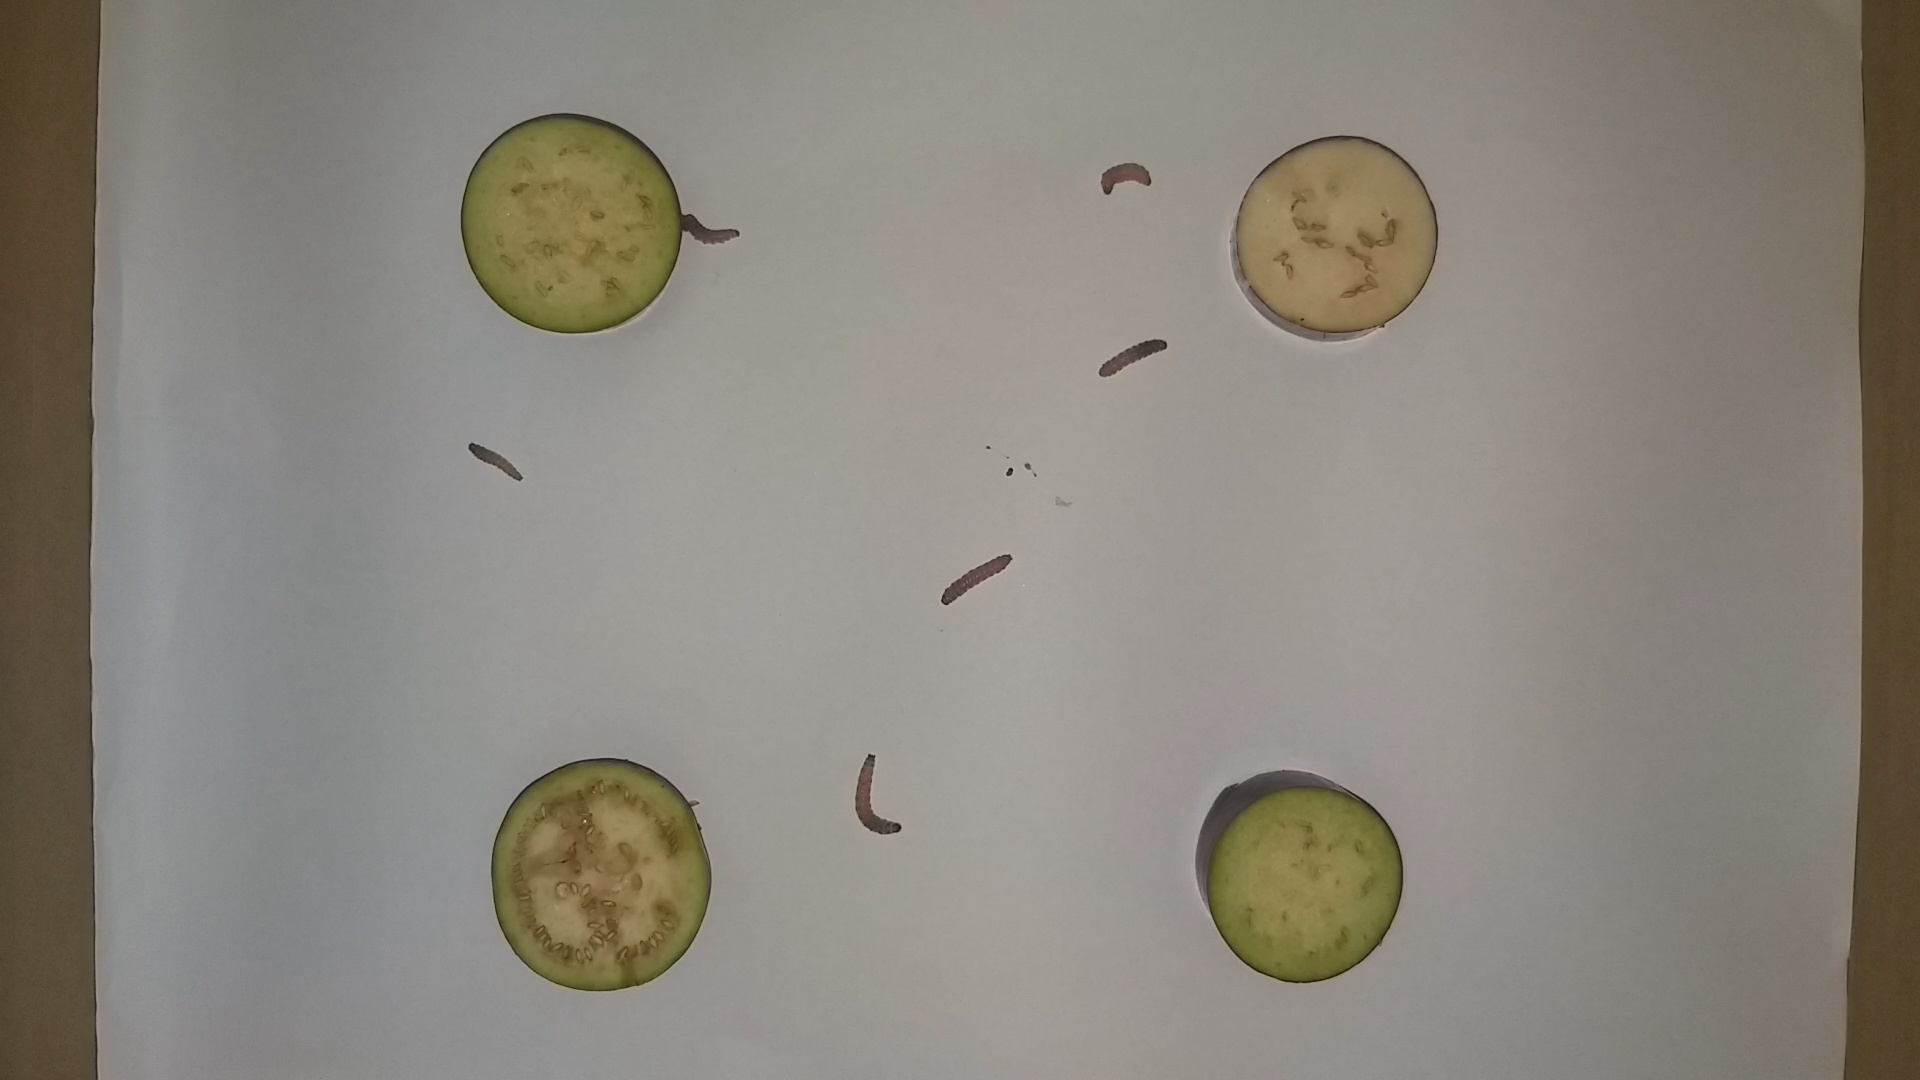efsb: (852, 750, 909, 837), (938, 554, 1018, 607), (1093, 335, 1176, 382), (464, 439, 529, 485), (679, 212, 746, 251), (1097, 160, 1159, 200)
